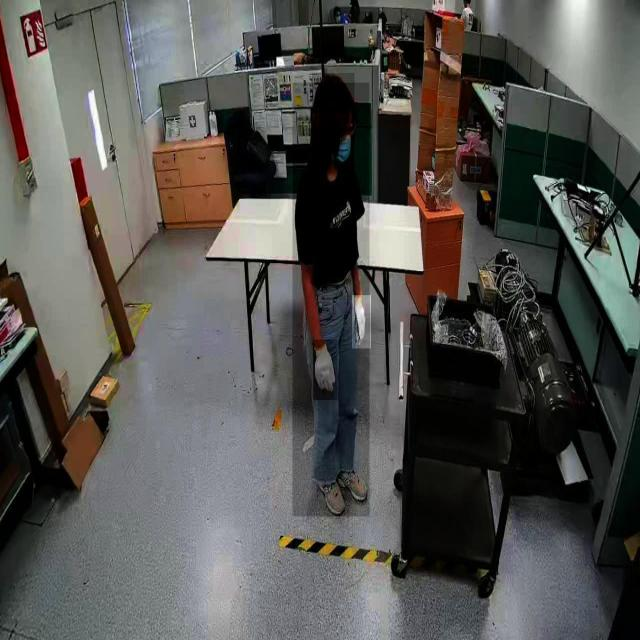face_mask: (334, 126, 354, 169)
hand_glove: (314, 339, 338, 401), (352, 295, 372, 349)
head_nohelmet: (312, 73, 355, 114)
person: (292, 83, 370, 517)
shoes: (330, 452, 370, 506), (312, 460, 347, 519)
